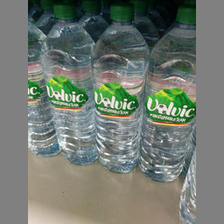water: (138, 6, 195, 182), (92, 4, 149, 173), (40, 4, 96, 167)
